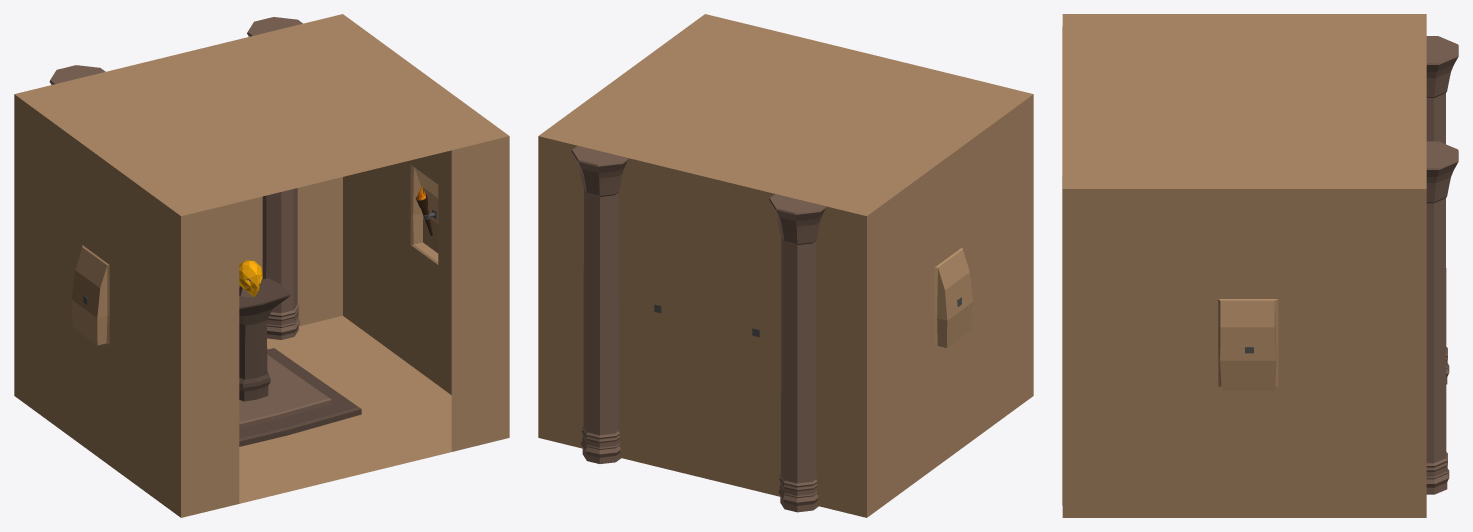
Rendered from tunnel_Schatz 1.fbx.
The picture shows the model from 3 angles, left to right: view 1: azimuth 30°, elevation 25°; view 2: azimuth 150°, elevation 25°; view 3: azimuth 270°, elevation 25°; orthographic projection. The views are drawn at different scales.
Visible parts, largest first — view 1: Tunnel_Schatz; view 2: Tunnel_Schatz; view 3: Tunnel_Schatz.
Boxes of the visible parts, x1,y1,x2,y2 form: Tunnel_Schatz: (14, 14, 509, 517); Tunnel_Schatz: (538, 14, 1033, 517); Tunnel_Schatz: (1062, 14, 1458, 517).
Size of the model in its own units: 366 by 302 by 327.
